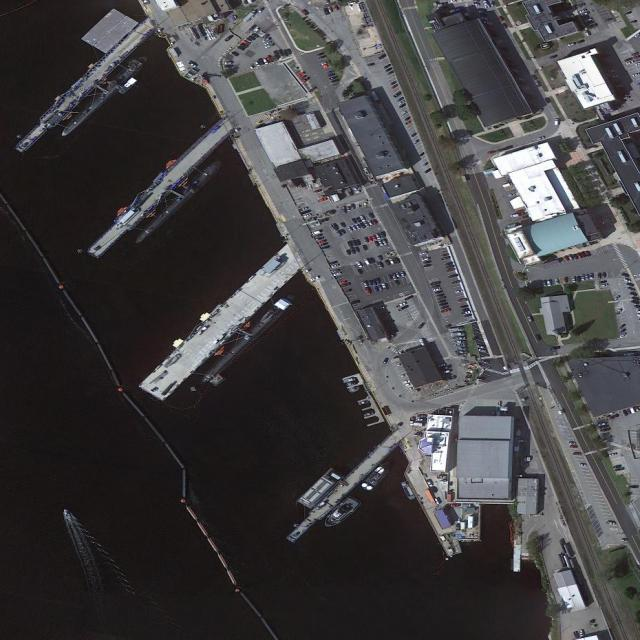Dock: (138, 243, 304, 405), (87, 120, 233, 261), (15, 17, 157, 157), (282, 430, 401, 542)
Hovercraft: (321, 492, 361, 532), (359, 458, 393, 492)
Submarine: (200, 297, 288, 383), (58, 54, 145, 137), (135, 162, 219, 244)
